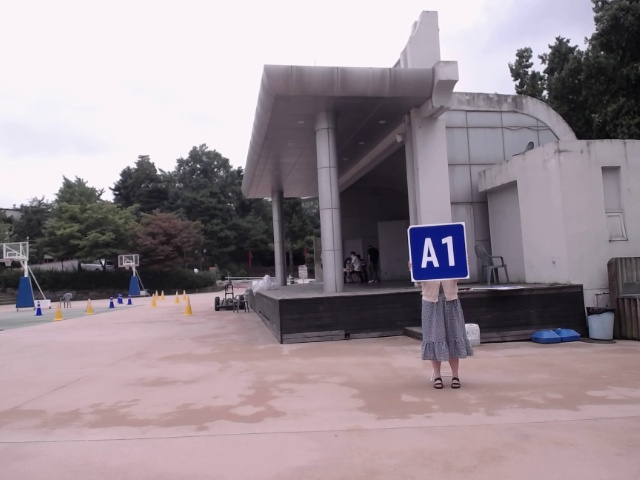delivery_a1: (408, 223, 469, 281)
